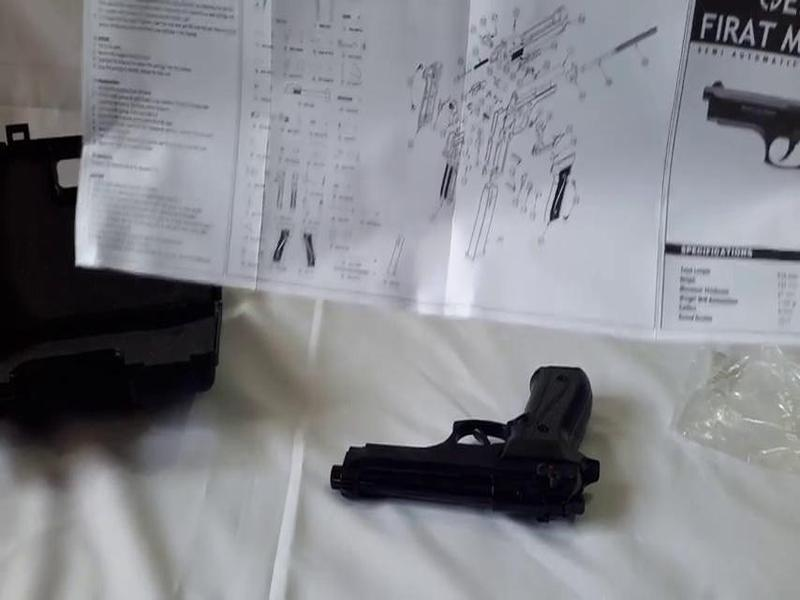Pistola: (297, 332, 597, 533)
